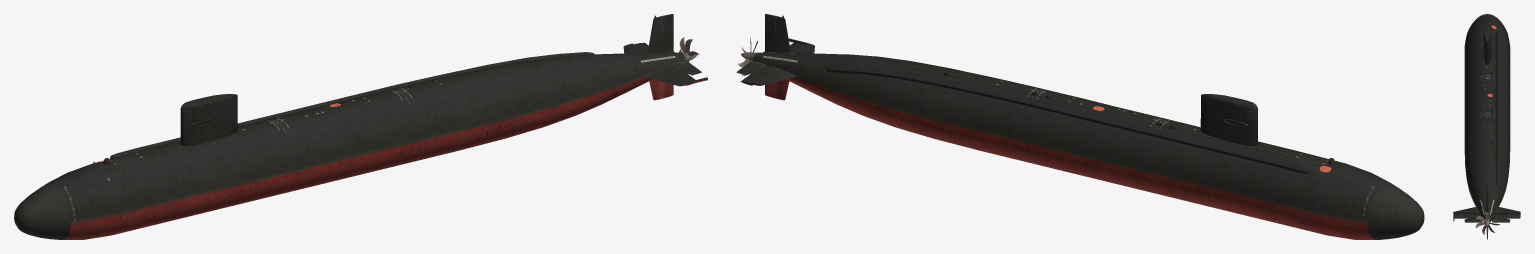
File: sub_nautilus.glb
The picture shows the model from 3 angles, left to right: view 1: azimuth 30°, elevation 25°; view 2: azimuth 150°, elevation 25°; view 3: azimuth 270°, elevation 25°; orthographic projection. The views are drawn at different scales.
Visible parts, largest first — view 1: Object_2; view 2: Object_2; view 3: Object_2.
Part boxes in pixels (x1,y1,x2,y2): Object_2: (14,14,707,239); Object_2: (736,14,1424,239); Object_2: (1453,14,1520,239).
Size of the model in its own units: 12.5 by 1.94 by 1.73.
Materials: 1 (1 with a texture image).
